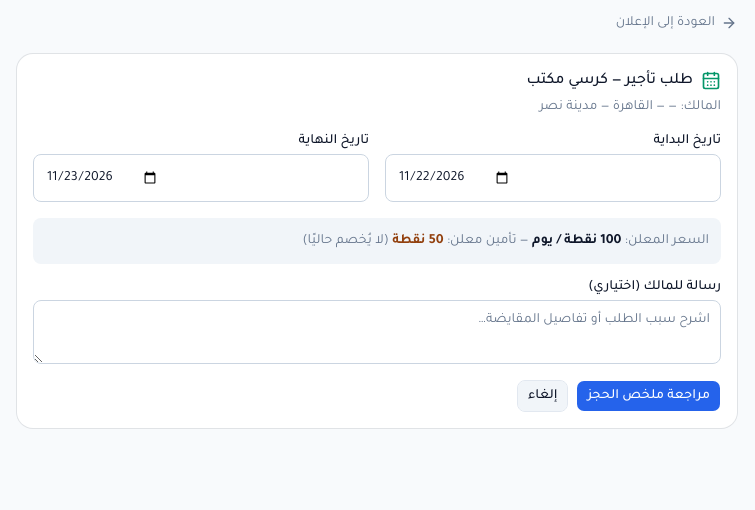
Test case: A5 booking summary (SRS §4.10) › rejects an end date earlier than the start date
expect the text "تاريخ البداية" is shown: met, box 654,134 -> 721,148
Type "2027-01-10" into the date field labelled "تاريخ البداية" at (553, 178), box 385,154 -> 721,202
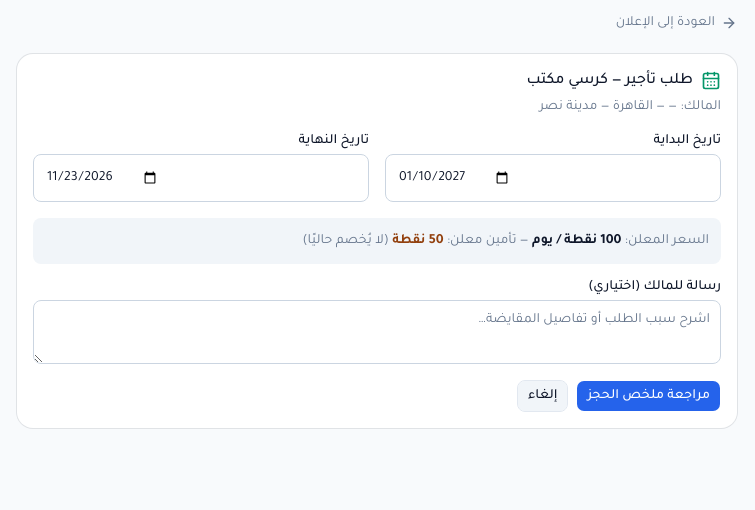
Type "2027-01-05" into the date field labelled "تاريخ النهاية" at (201, 178), box 33,154 -> 369,202
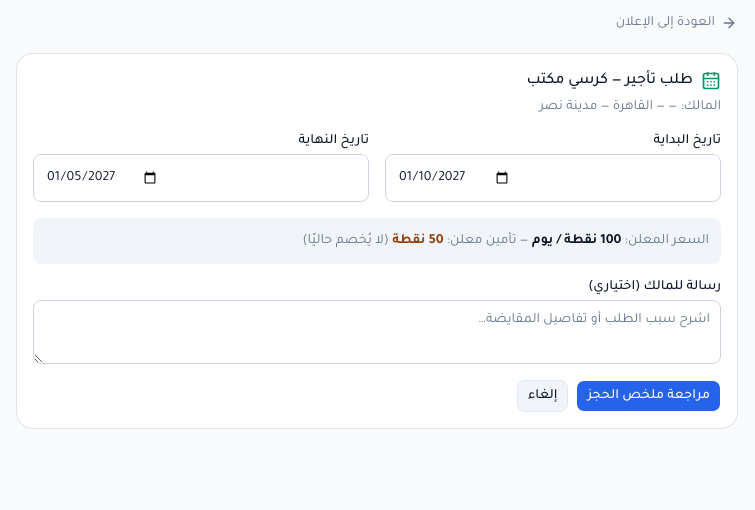
Submit the form, box 33,134 -> 721,412
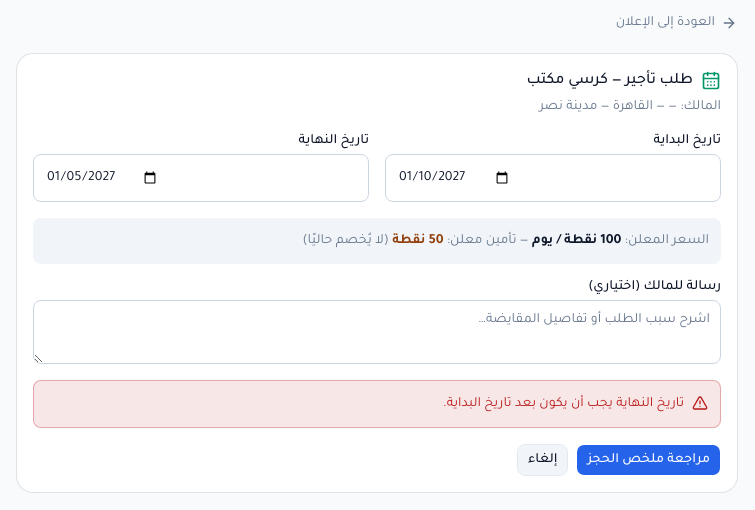
expect the message reads "تاريخ النهاية يجب أن يكون بعد تاريخ البداية.": met, box 443,397 -> 684,411
